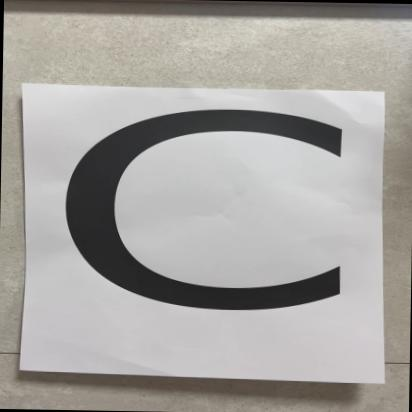seat: (22, 79, 412, 395)
